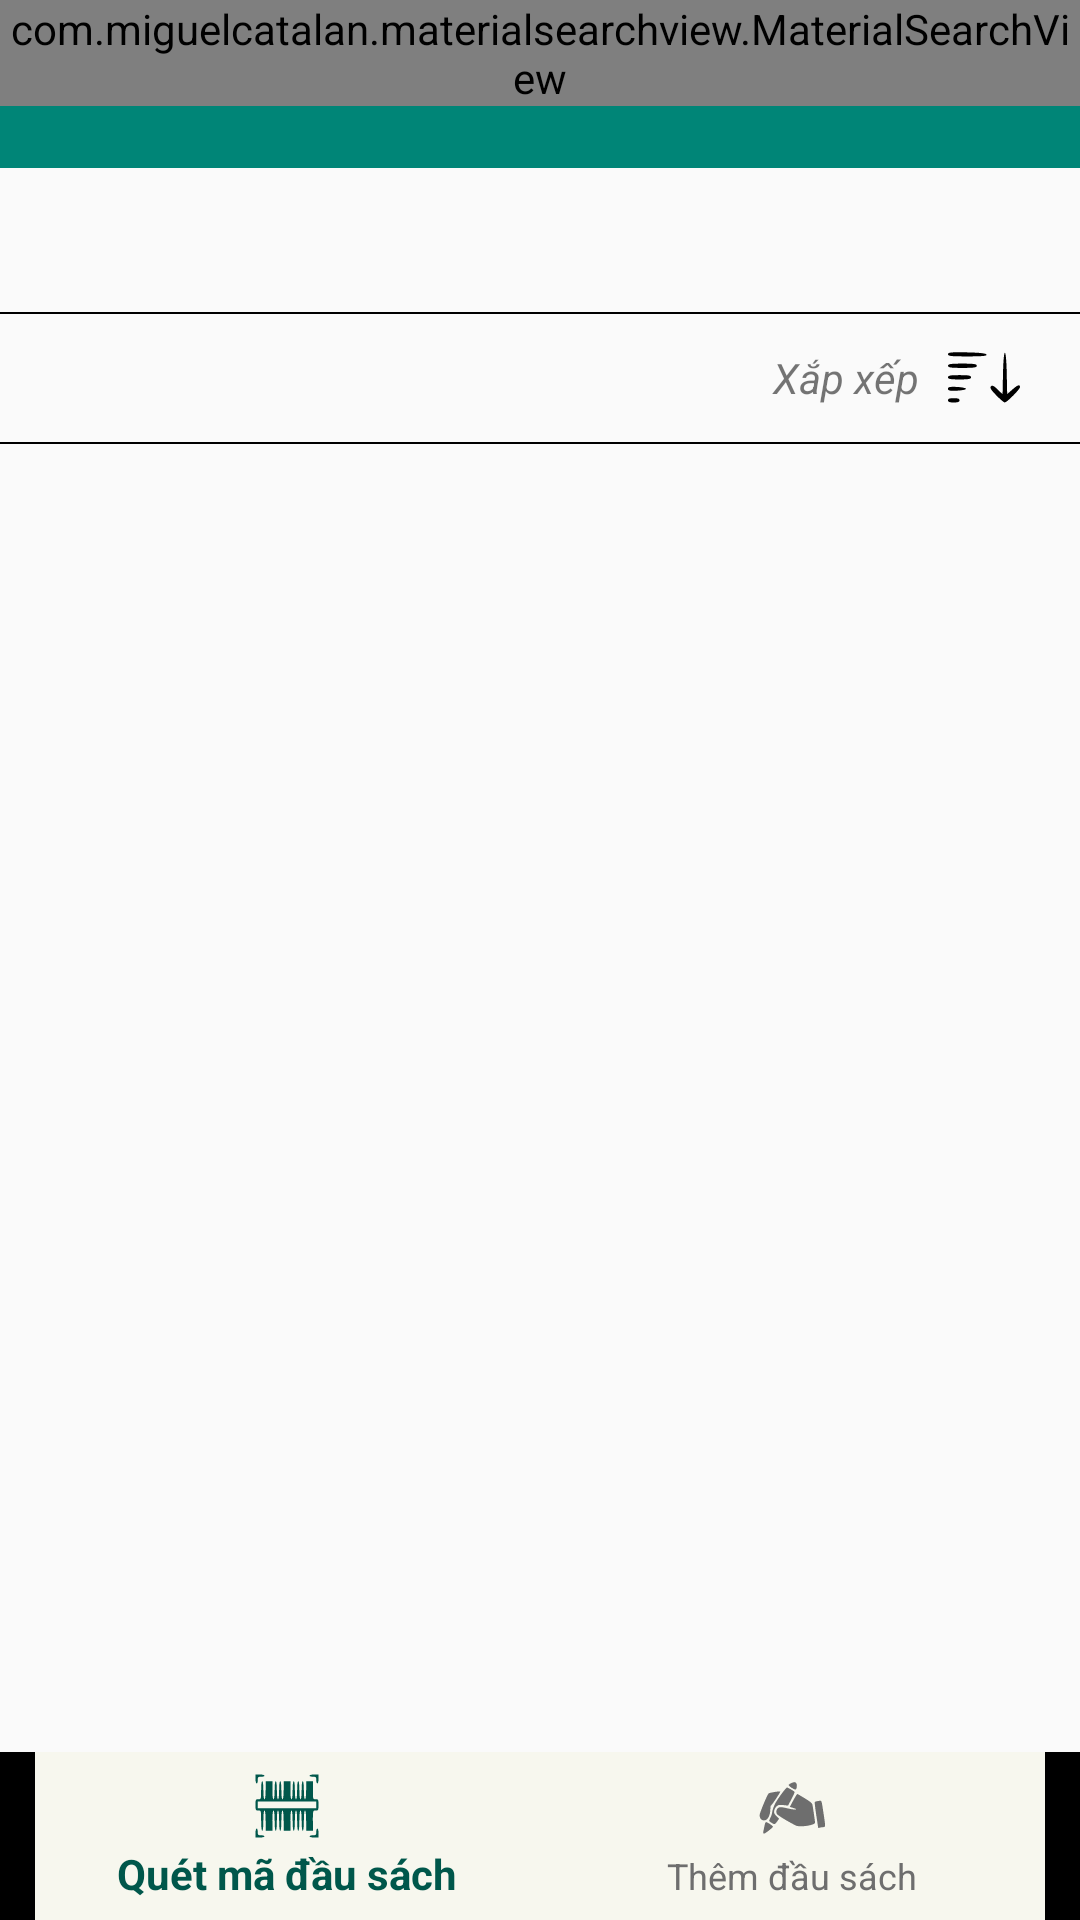

Named icons in this screenshot (1080 x 1920) and their centers, (x,y):
sort: (984,377)
